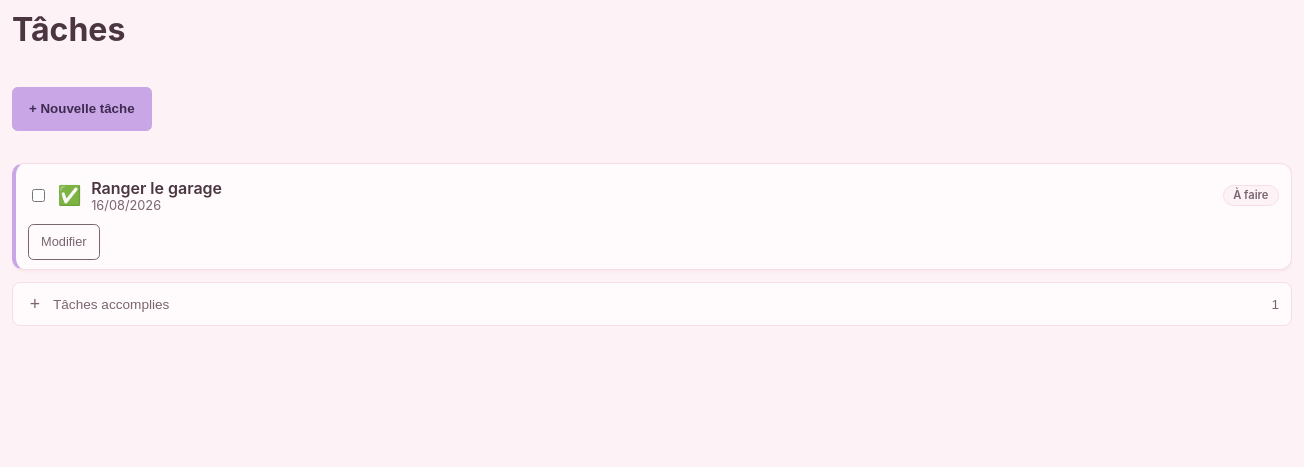
Tâches — section « Tâches accomplies » (US-041) › scénario 2 — déplier affiche les tâches accomplies, replier les masque à nouveau
This screenshot has width=1304, height=467.
expect the text "Ranger le garage" is shown: met, box [91,178,222,198]
Click the button "+ Tâches accomplies 1" at (111, 304), box [12,282,1292,326]
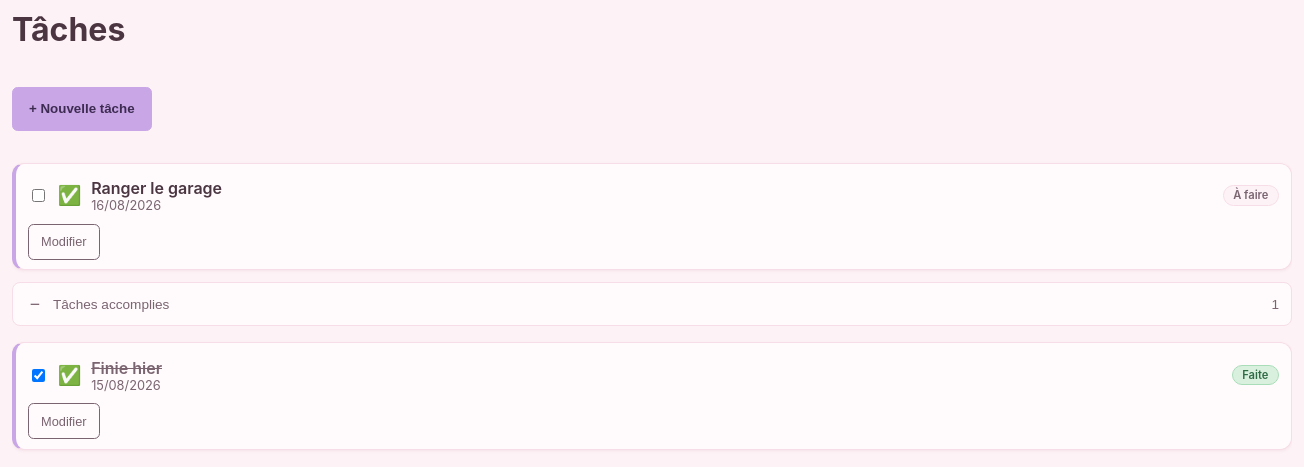
expect the text "Finie hier" is shown: met, box [91,358,162,378]
expect the button "− Tâches accomplies 1" is expanded: met
Click the button "− Tâches accomplies 1" at (111, 304), box [12,282,1292,326]
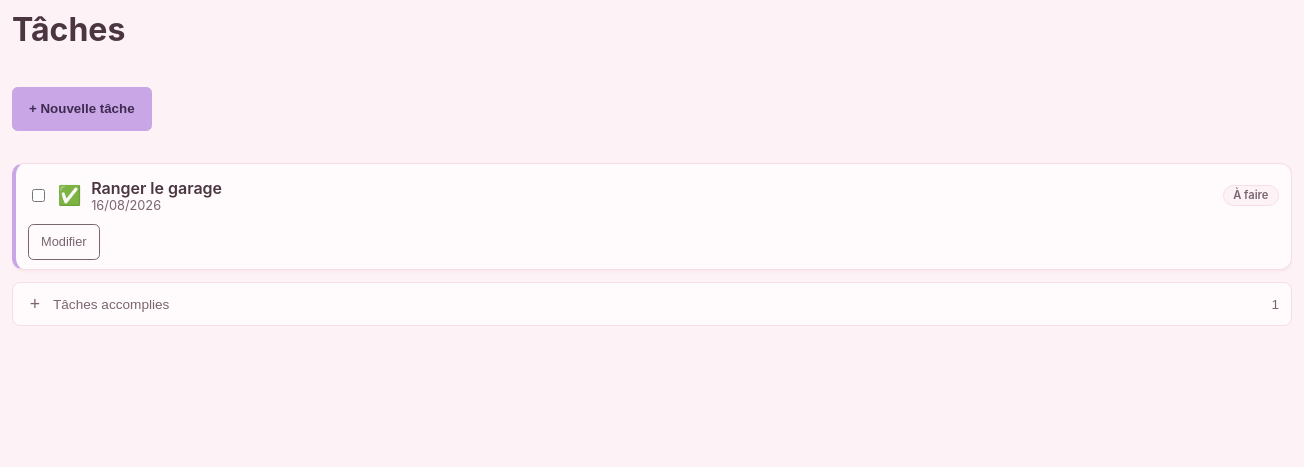
expect the text "Finie hier" is gone: met
